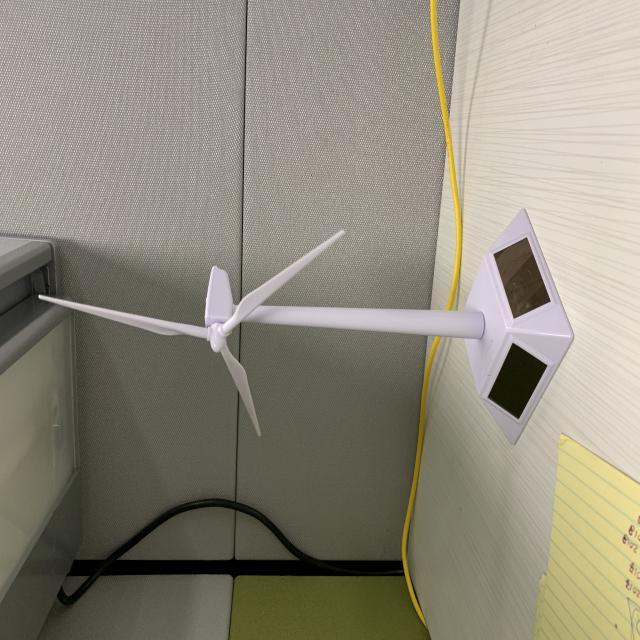solid-blade: (224, 230, 345, 333), (40, 295, 208, 338), (220, 345, 261, 436)
